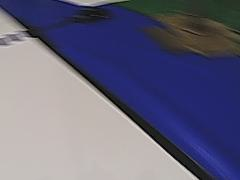CrossWalk: (60, 2, 112, 25), (0, 28, 38, 48)
